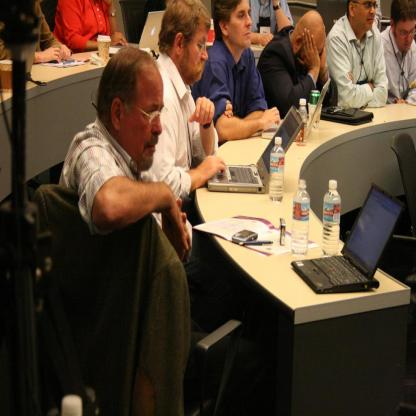board: (306, 179, 398, 299), (208, 104, 305, 196), (262, 79, 332, 143), (110, 12, 163, 54), (290, 177, 310, 254), (322, 181, 342, 255), (268, 137, 284, 204), (298, 97, 308, 145), (0, 58, 13, 94), (98, 32, 110, 66), (308, 86, 322, 105)
